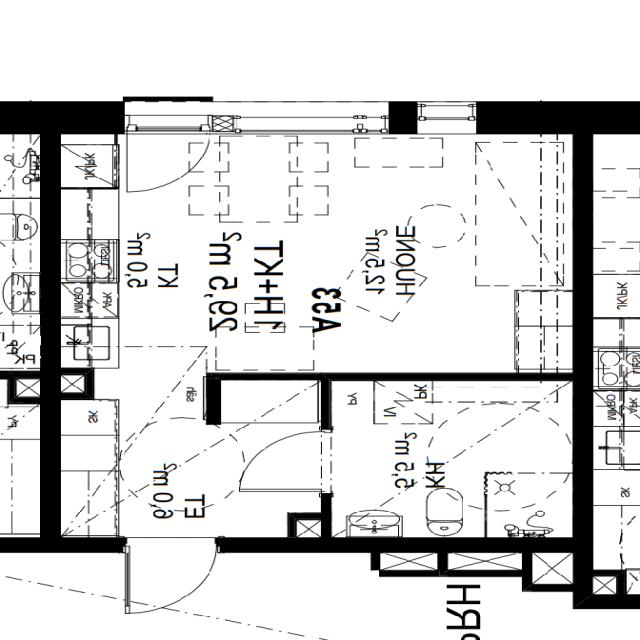door: (128, 100, 210, 192), (128, 536, 216, 618), (240, 431, 332, 491)
